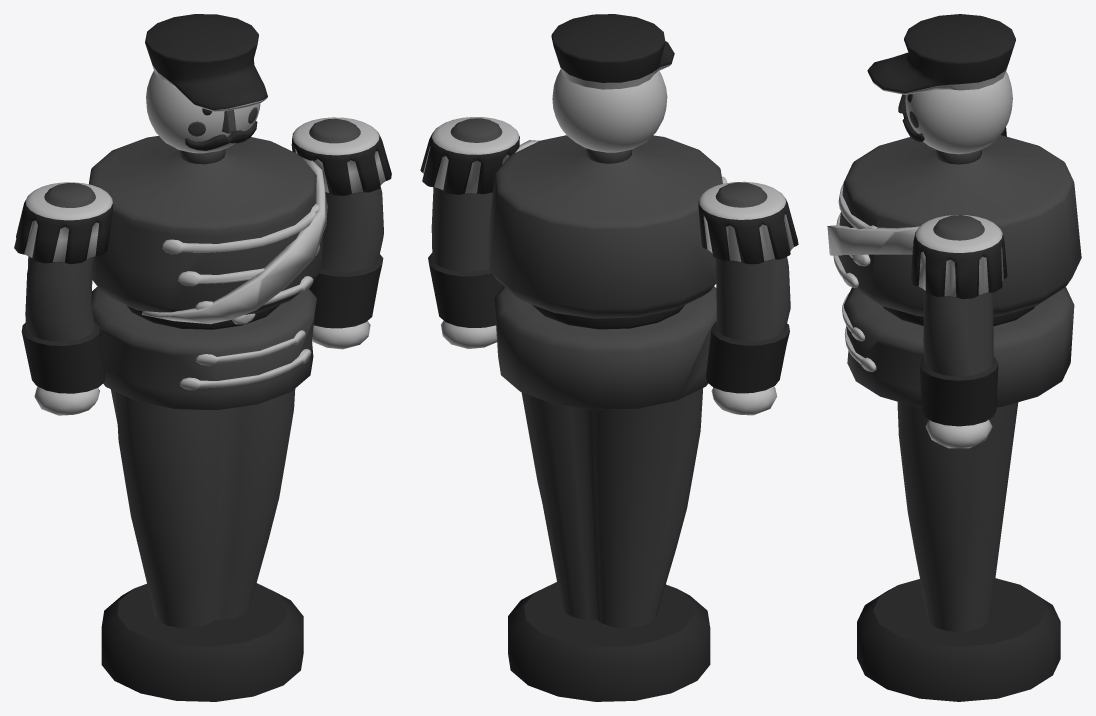
File: Soldier_BN_03.fbx
3 views of the same model, side by side, from view 1: azimuth 30°, elevation 25°; view 2: azimuth 150°, elevation 25°; view 3: azimuth 270°, elevation 25° (orthographic).
Visible parts, largest first — view 1: Soldier_BN_03.001; view 2: Soldier_BN_03.001; view 3: Soldier_BN_03.001.
Part boxes in pixels (x1,y1,x2,y2): Soldier_BN_03.001: (14, 14, 391, 701); Soldier_BN_03.001: (420, 14, 798, 701); Soldier_BN_03.001: (827, 14, 1081, 701).
Size of the model in its own units: 5.4 by 8.84 by 3.26.
